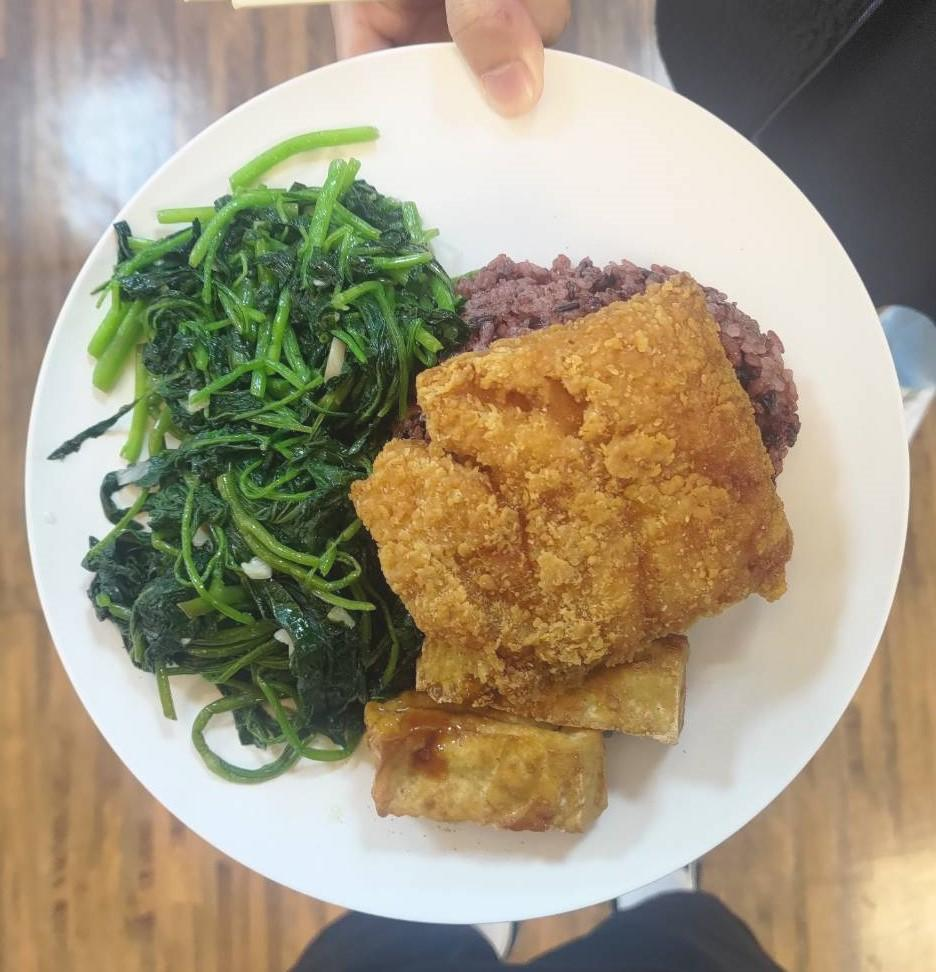big fried chicken leg: (27, 32, 914, 942)
braised fish: (444, 250, 800, 524)
braised fish fillet: (100, 159, 442, 477), (78, 456, 402, 770), (352, 624, 698, 835)
braised pork: (360, 272, 797, 722)
